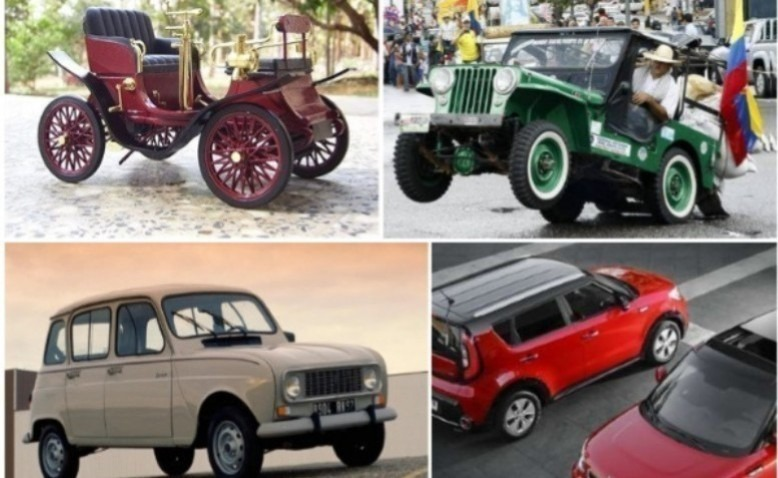car: (10, 281, 405, 477), (12, 278, 395, 471), (397, 29, 743, 224), (30, 8, 342, 196), (425, 251, 690, 438), (427, 253, 682, 437), (516, 287, 759, 465), (189, 5, 365, 191), (569, 323, 777, 476), (276, 2, 385, 110), (720, 21, 774, 93)
